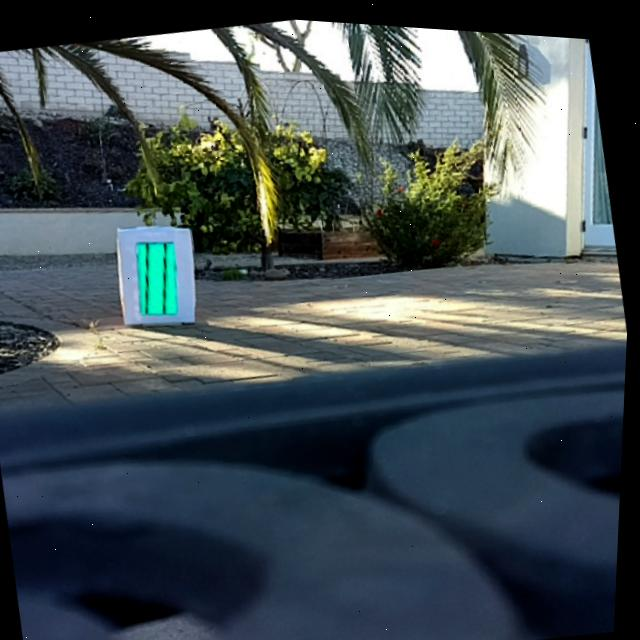led: (134, 231, 187, 324)
